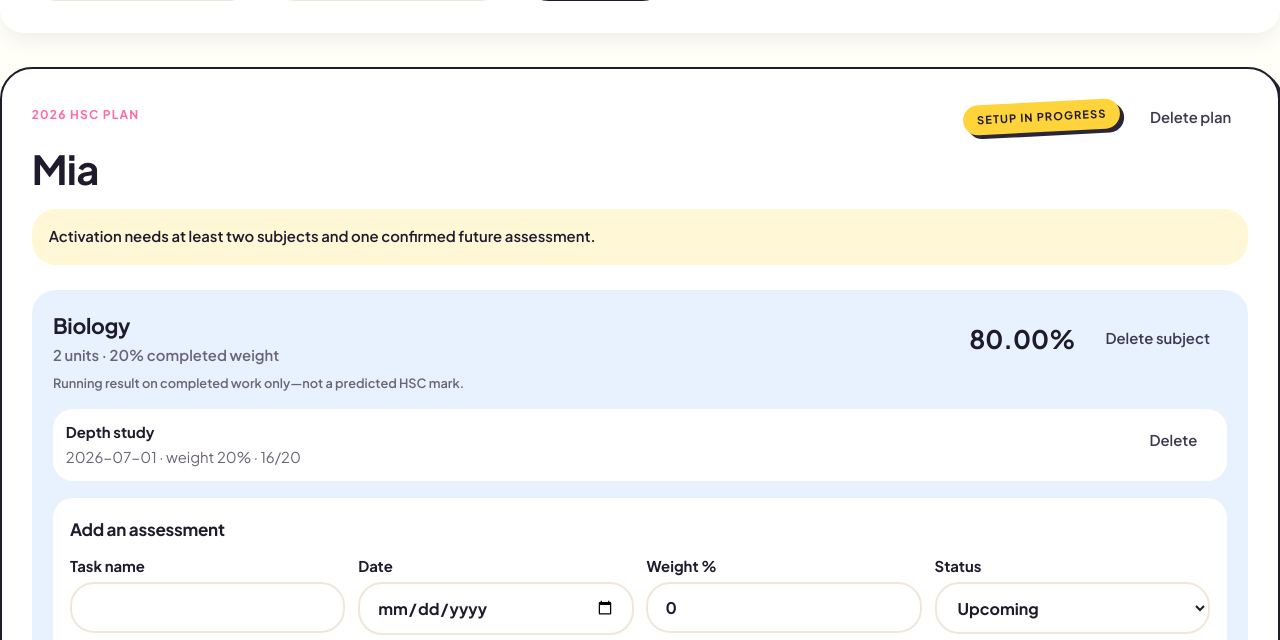
HscPlannerPage › deletion › backs out without deleting when the parent keeps it
(page scrolled)
Expected: the text "Depth study" is shown, x1=66 y1=423 x2=155 y2=441
Click the button "Delete subject" at (1158, 339), box x1=1088 y1=320 x2=1227 y2=358
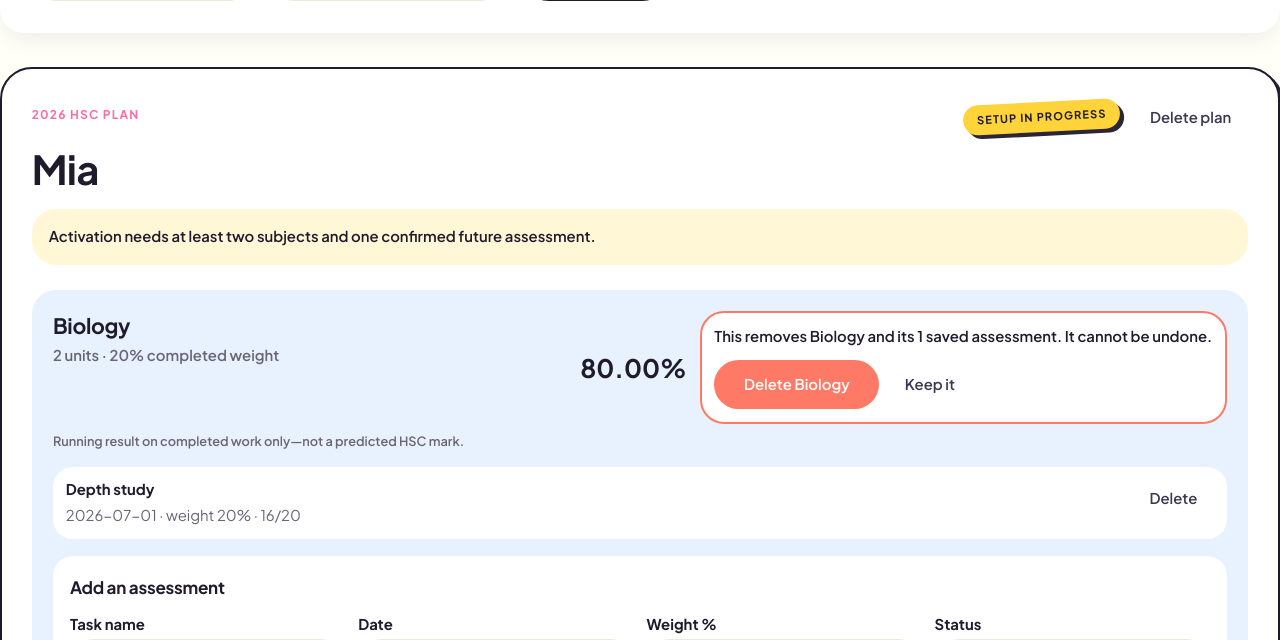
Click the button "Keep it" at (930, 385), box x1=888 y1=360 x2=972 y2=410
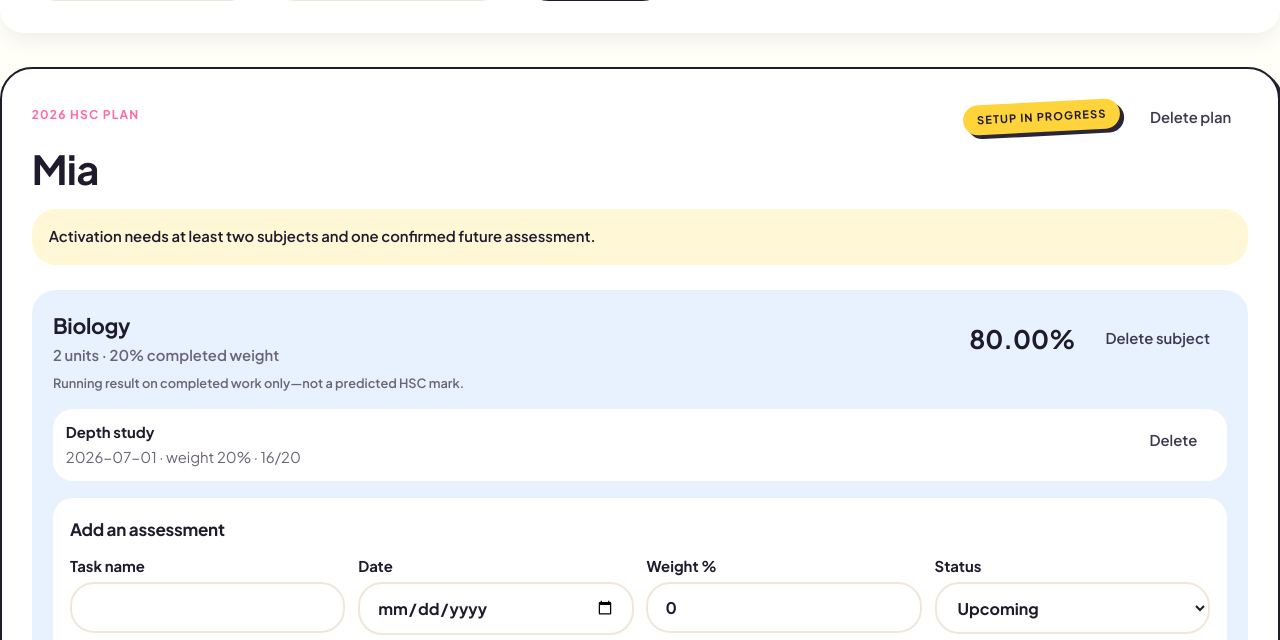
Expected: the text "cannot be undone" is gone
